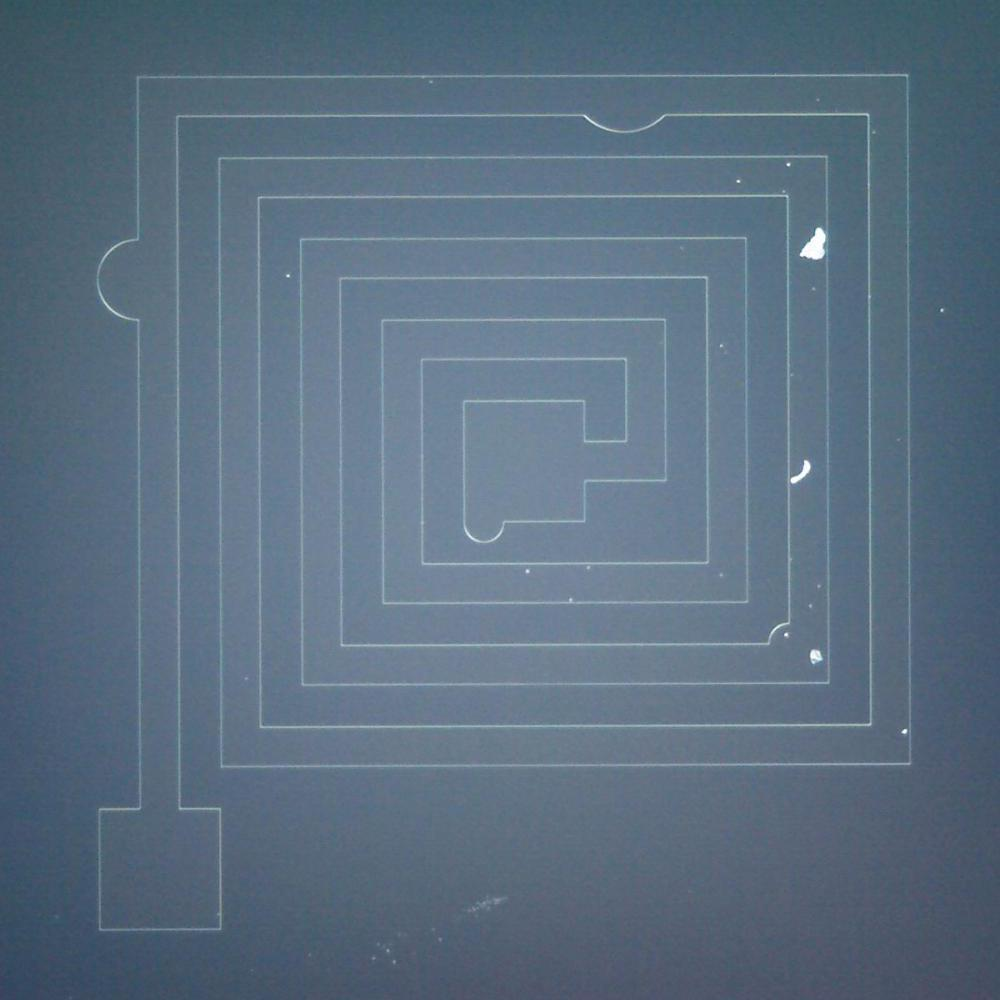curve circuit: (89, 219, 155, 340), (566, 100, 679, 141), (456, 512, 519, 548), (758, 611, 798, 655)
dot: (925, 294, 956, 327), (890, 716, 918, 746), (270, 266, 298, 290), (725, 168, 753, 192), (777, 156, 799, 175), (780, 629, 800, 648), (518, 562, 538, 581)
line: (788, 459, 813, 488)
spot: (796, 220, 833, 273), (799, 636, 835, 672)
